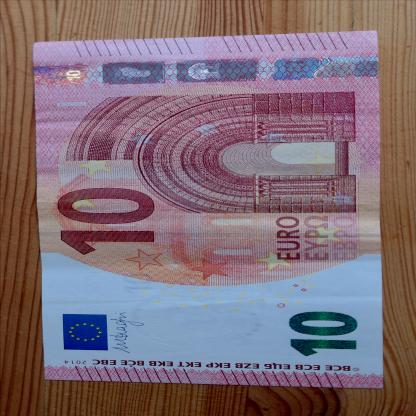euro_banknote: (32, 42, 391, 388)
